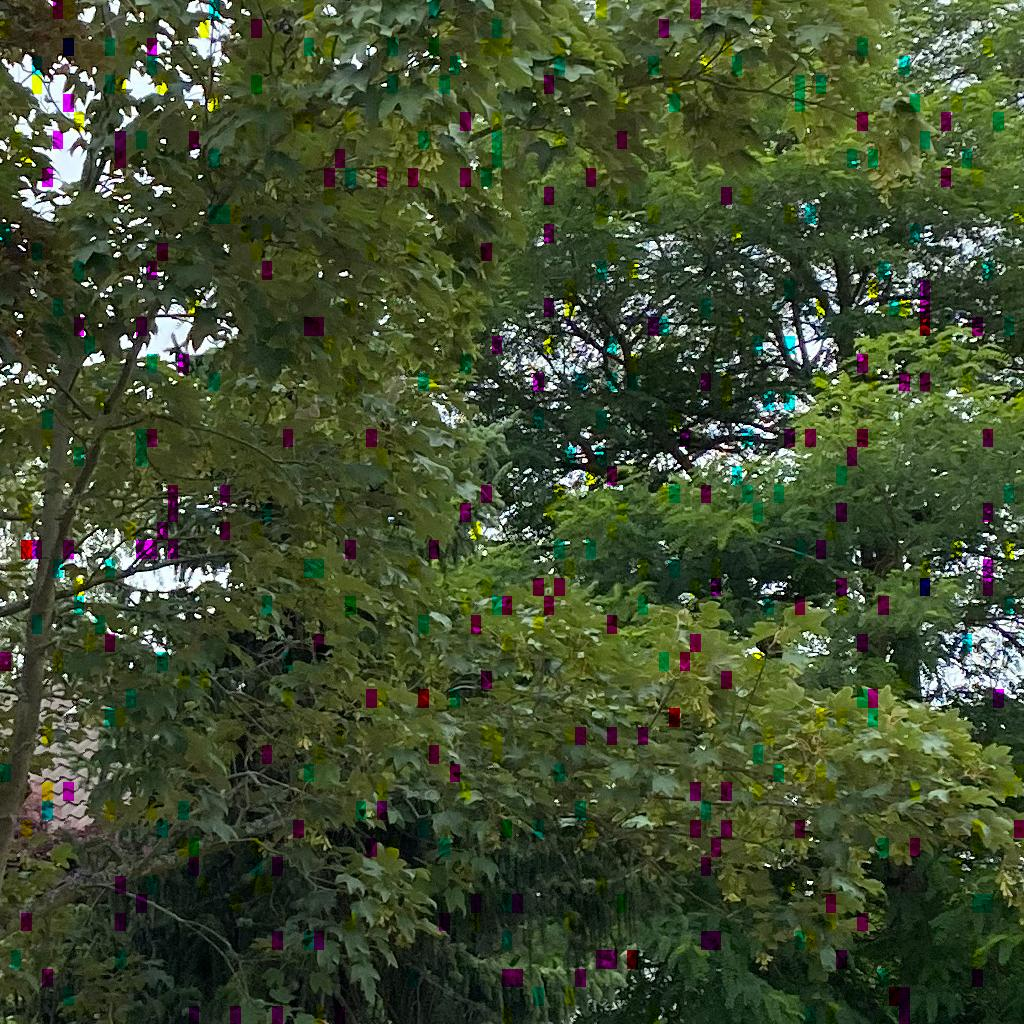tree: (1, 1, 615, 887), (480, 1, 1024, 702)
